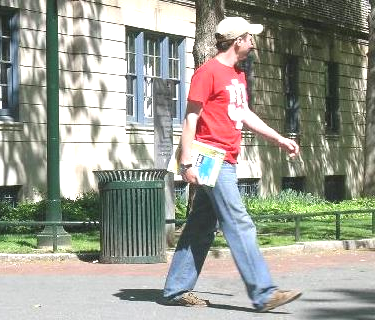pedestrian: (160, 17, 303, 312)
